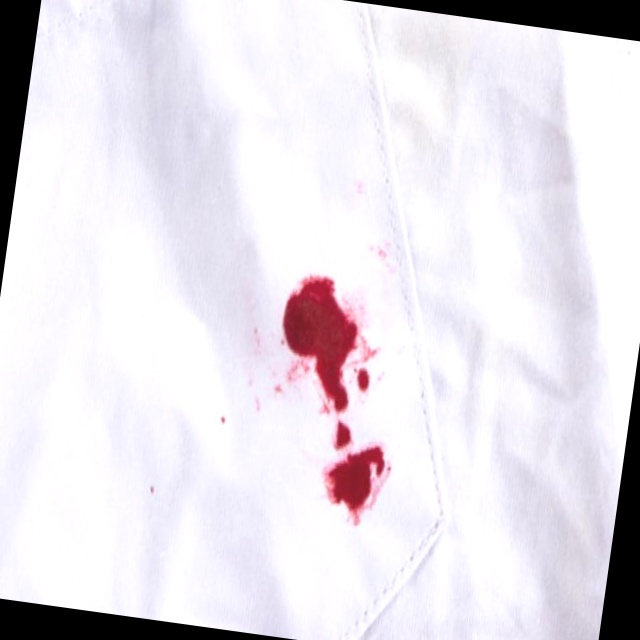blood: (269, 266, 393, 419), (318, 421, 393, 527)
